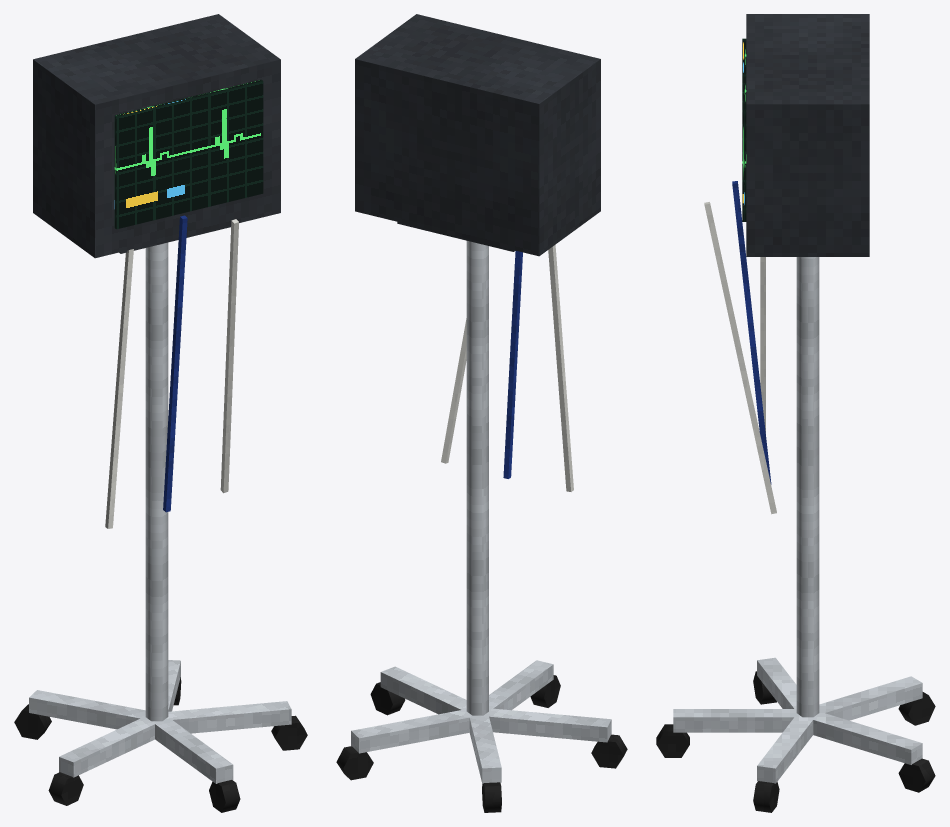
File: tfg_heart_monitor.glb
3 renders of one model, left to right at view 1: azimuth 30°, elevation 25°; view 2: azimuth 150°, elevation 25°; view 3: azimuth 270°, elevation 25°, orthographic.
Parts seen in each view (by area): view 1: tfg_heart_monitor; view 2: tfg_heart_monitor; view 3: tfg_heart_monitor.
Boxes of the visible parts, x1=… form: tfg_heart_monitor: x1=14, y1=14, x2=307, y2=812; tfg_heart_monitor: x1=336, y1=14, x2=627, y2=812; tfg_heart_monitor: x1=656, y1=14, x2=935, y2=812.
Size of the model in its own units: 0.5228 by 1.37 by 0.4973.
6 materials, 6 textured.
